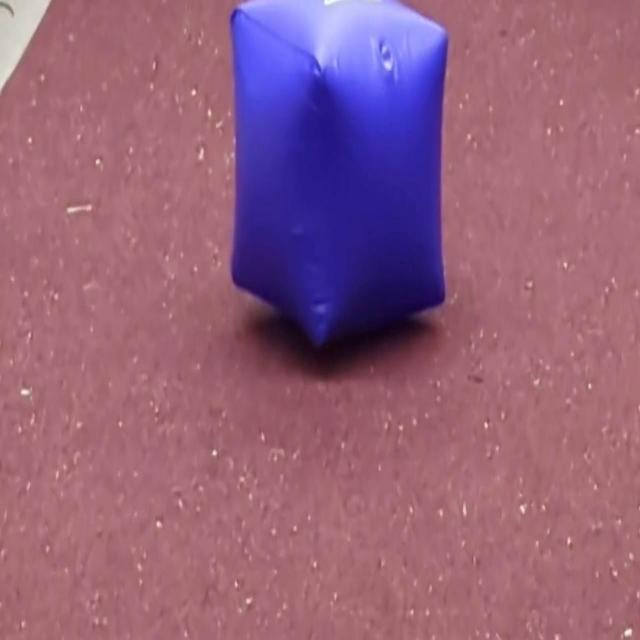frc_cube: (228, 0, 450, 359)
